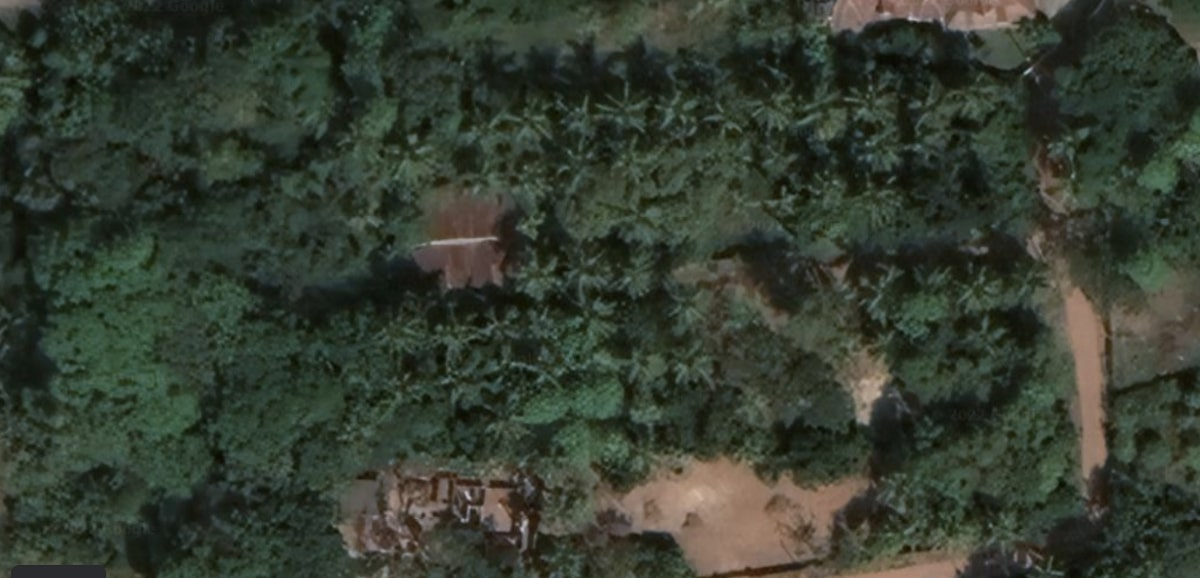coconut: (855, 270, 911, 321), (667, 343, 724, 391), (433, 307, 485, 358), (498, 96, 550, 145), (1002, 255, 1055, 302), (385, 306, 432, 357), (951, 268, 999, 313), (854, 125, 896, 172), (848, 77, 896, 118), (806, 95, 847, 141), (665, 289, 711, 330), (917, 269, 954, 318), (753, 92, 795, 133), (567, 252, 607, 294), (604, 97, 643, 136), (704, 101, 741, 137), (559, 102, 591, 143), (661, 97, 695, 133)
